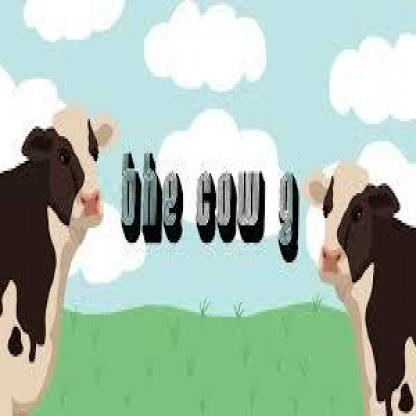cow: (0, 106, 116, 415), (305, 166, 416, 416)
